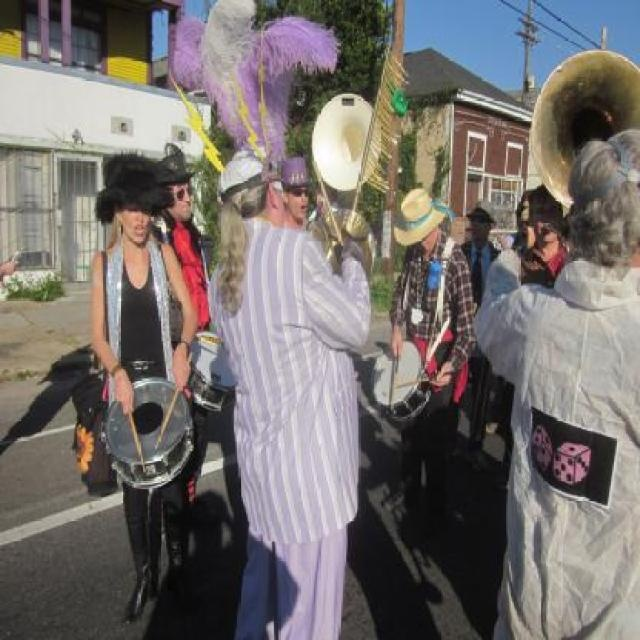obstacle: (472, 127, 639, 640), (206, 138, 372, 638), (94, 155, 195, 616), (375, 192, 490, 520), (148, 145, 220, 529), (460, 182, 502, 430), (513, 180, 579, 288), (507, 194, 528, 298), (519, 181, 536, 241), (0, 249, 22, 283)
